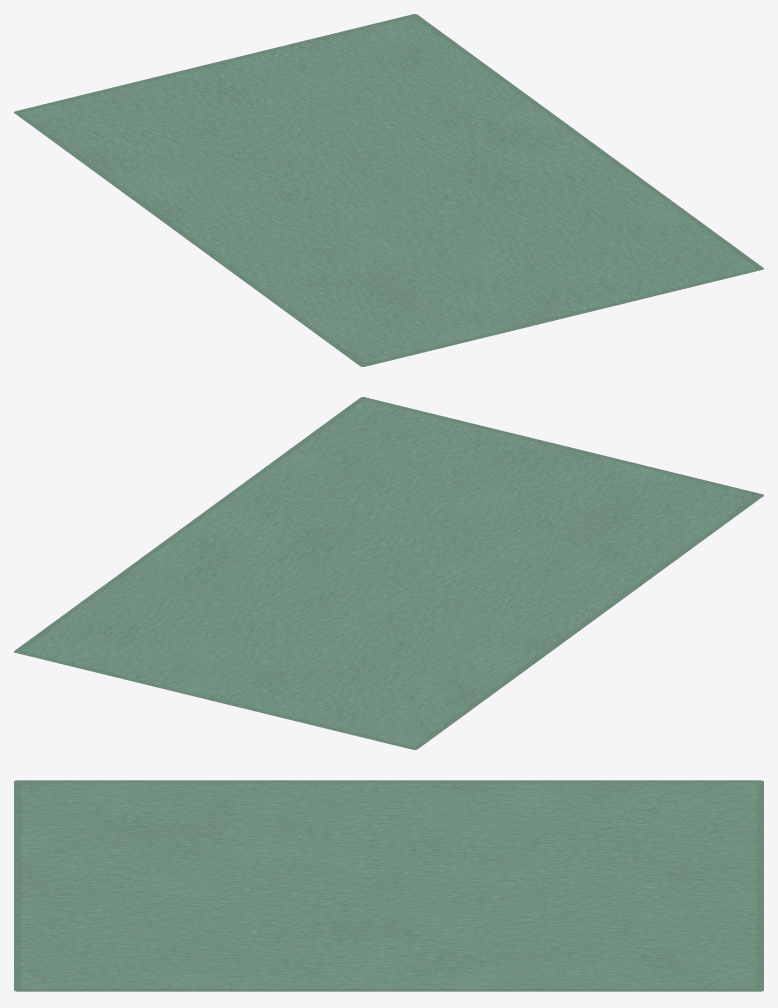
The model's file is green_XL.glb.
3 renders of one model, top to bottom at view 1: azimuth 30°, elevation 25°; view 2: azimuth 150°, elevation 25°; view 3: azimuth 270°, elevation 25°, orthographic. The views are drawn at different scales.
Visible parts, largest first — view 1: reliv_green_XL; view 2: reliv_green_XL; view 3: reliv_green_XL.
Part boxes in pixels (x1,y1,x2,y2): reliv_green_XL: (14, 14, 763, 366); reliv_green_XL: (14, 397, 763, 749); reliv_green_XL: (14, 780, 763, 991).
Size of the model in its own units: 2 by 0.009 by 3.
2 materials, 1 textured.
